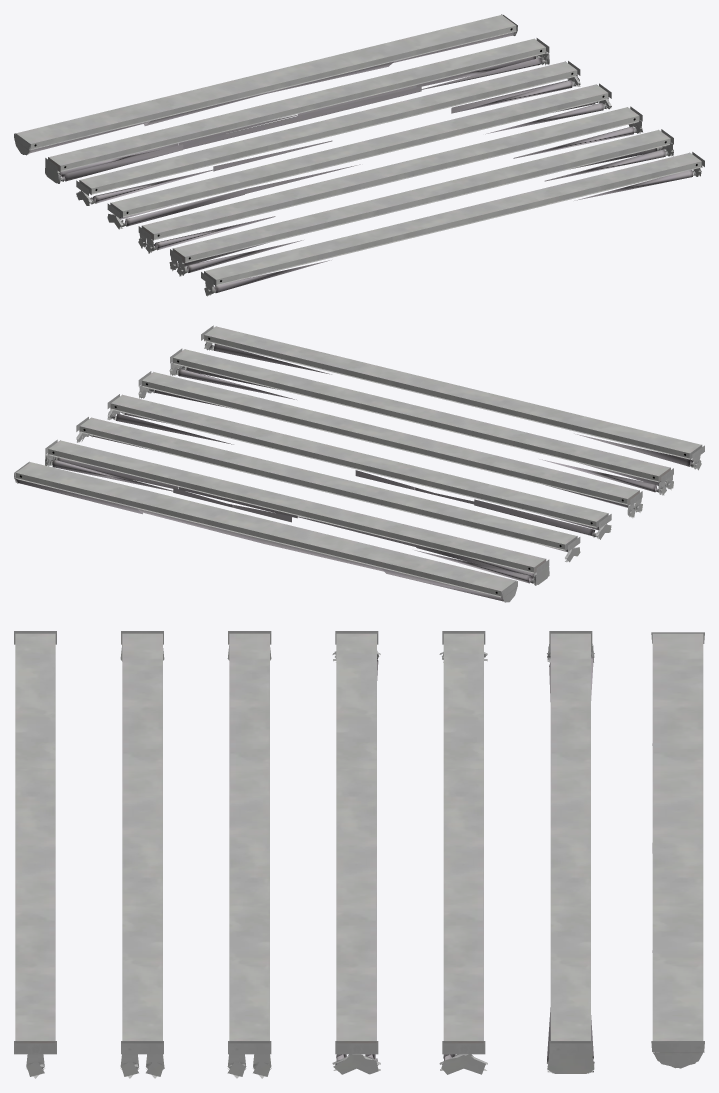
Rendered from fluorescent-lights.glb.
3 views of the same model, one above another, from view 1: azimuth 30°, elevation 25°; view 2: azimuth 150°, elevation 25°; view 3: azimuth 270°, elevation 25° (orthographic). The views are drawn at different scales.
Visible parts, largest first — view 1: mounted_fluorescent_lights_a; view 2: mounted_fluorescent_lights_a; view 3: mounted_fluorescent_lights_a.
Part boxes in pixels (x1,y1,x2,y2): mounted_fluorescent_lights_a: (14, 14, 704, 296); mounted_fluorescent_lights_a: (14, 325, 704, 602); mounted_fluorescent_lights_a: (14, 631, 704, 1078).
Size of the model in its own units: 1.3 by 0.0521 by 0.9198.
Materials: 2 (2 with a texture image).
